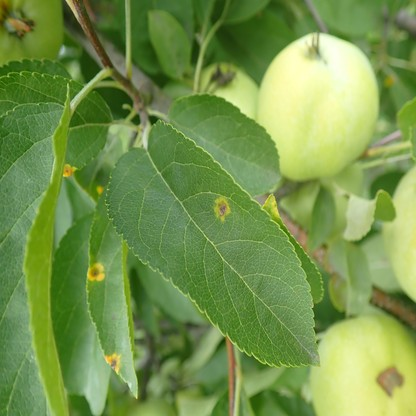rust: (213, 194, 231, 221), (89, 262, 105, 282), (106, 353, 122, 371), (63, 162, 77, 176), (97, 184, 104, 194)
